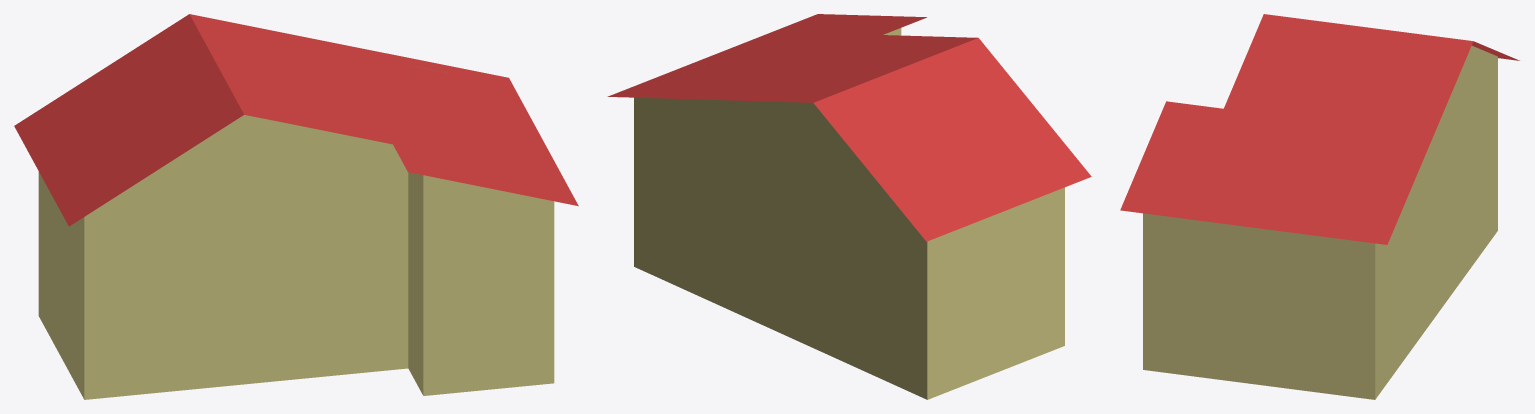
3 renders of one model, left to right at view 1: azimuth 30°, elevation 25°; view 2: azimuth 150°, elevation 25°; view 3: azimuth 270°, elevation 25°, orthographic. The views are drawn at different scales.
Bounding box in the file's own units: 13.54 × 10.86 × 7.47.
